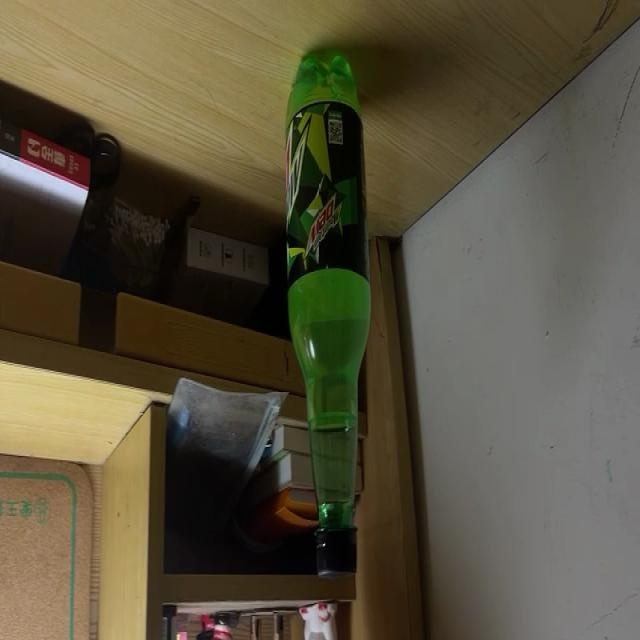Mountain-Dew: (286, 51, 371, 578)
